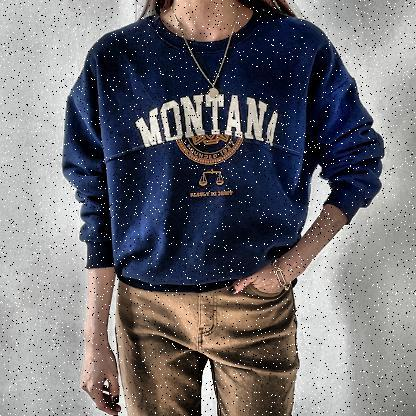sweater: (59, 9, 386, 296)
trousers: (111, 275, 301, 416)
